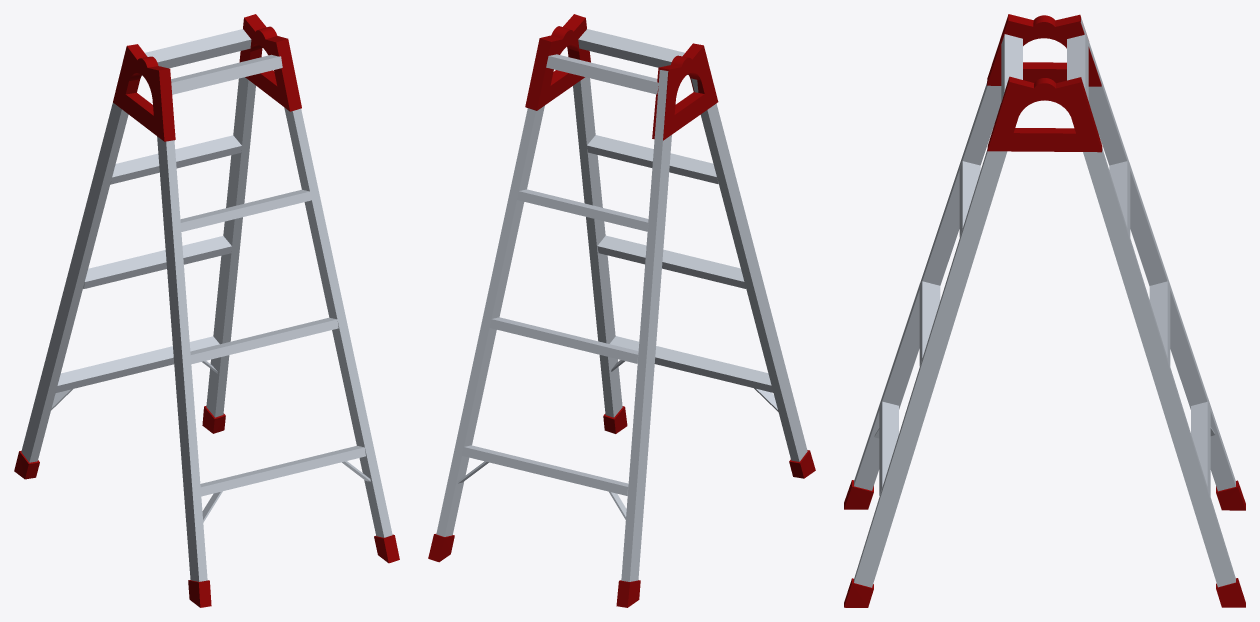
The model's file is Ladder.obj.
3 renders of one model, left to right at view 1: azimuth 30°, elevation 25°; view 2: azimuth 150°, elevation 25°; view 3: azimuth 270°, elevation 25°, orthographic. The views are drawn at different scales.
Parts seen in each view (by area): view 1: Mesh2 leg2 Group1 ladder_1_1 Componente_91_1 Model, Mesh1 leg1 Group1 ladder_1_1 Componente_91_1 Model, Mesh9 leg3 Group2 ladder_1_1 Componente_91_1 Model, Mesh10 leg4 Group2 ladder_1_1 Componente_91_1 Model, Mesh18 Group4 ladder_1_1 Componente_91_1 Model, Mesh17 Group3 ladder_1_1 Componente_91_1 Model, Mesh13 Group2 ladder_1_1 Componente_91_1 Model, Mesh12 Group2 ladder_1_1 Componente_91_1 Model, Mesh14 Group2 ladder_1_1 Componente_91_1 Model, Mesh4 Group1 ladder_1_1 Componente_91_1 Model, Mesh11 Group2 ladder_1_1 Componente_91_1 Model, Mesh5 Group1 ladder_1_1 Componente_91_1 Model (+2 smaller); view 2: Mesh9 leg3 Group2 ladder_1_1 Componente_91_1 Model, Mesh10 leg4 Group2 ladder_1_1 Componente_91_1 Model, Mesh2 leg2 Group1 ladder_1_1 Componente_91_1 Model, Mesh1 leg1 Group1 ladder_1_1 Componente_91_1 Model, Mesh18 Group4 ladder_1_1 Componente_91_1 Model, Mesh17 Group3 ladder_1_1 Componente_91_1 Model, Mesh5 Group1 ladder_1_1 Componente_91_1 Model, Mesh4 Group1 ladder_1_1 Componente_91_1 Model, Mesh6 Group1 ladder_1_1 Componente_91_1 Model, Mesh12 Group2 ladder_1_1 Componente_91_1 Model, Mesh3 Group1 ladder_1_1 Componente_91_1 Model, Mesh13 Group2 ladder_1_1 Componente_91_1 Model (+2 smaller); view 3: Mesh1 leg1 Group1 ladder_1_1 Componente_91_1 Model, Mesh10 leg4 Group2 ladder_1_1 Componente_91_1 Model, Mesh9 leg3 Group2 ladder_1_1 Componente_91_1 Model, Mesh2 leg2 Group1 ladder_1_1 Componente_91_1 Model, Mesh17 Group3 ladder_1_1 Componente_91_1 Model, Mesh18 Group4 ladder_1_1 Componente_91_1 Model, Mesh4 Group1 ladder_1_1 Componente_91_1 Model, Mesh12 Group2 ladder_1_1 Componente_91_1 Model, Mesh5 Group1 ladder_1_1 Componente_91_1 Model, Mesh13 Group2 ladder_1_1 Componente_91_1 Model, Mesh3 Group1 ladder_1_1 Componente_91_1 Model, Mesh11 Group2 ladder_1_1 Componente_91_1 Model (+2 smaller).
Part boxes in pixels (box(x1,y1,x2,y2)): Mesh2 leg2 Group1 ladder_1_1 Componente_91_1 Model: box(157, 136, 211, 607); Mesh1 leg1 Group1 ladder_1_1 Componente_91_1 Model: box(284, 107, 399, 563); Mesh9 leg3 Group2 ladder_1_1 Componente_91_1 Model: box(14, 103, 128, 479); Mesh10 leg4 Group2 ladder_1_1 Componente_91_1 Model: box(202, 77, 255, 433); Mesh18 Group4 ladder_1_1 Componente_91_1 Model: box(113, 44, 175, 141); Mesh17 Group3 ladder_1_1 Componente_91_1 Model: box(239, 14, 301, 111); Mesh13 Group2 ladder_1_1 Componente_91_1 Model: box(83, 236, 231, 288); Mesh12 Group2 ladder_1_1 Componente_91_1 Model: box(55, 336, 219, 392); Mesh14 Group2 ladder_1_1 Componente_91_1 Model: box(110, 135, 241, 184); Mesh4 Group1 ladder_1_1 Componente_91_1 Model: box(200, 446, 365, 496); Mesh11 Group2 ladder_1_1 Componente_91_1 Model: box(145, 29, 251, 68); Mesh5 Group1 ladder_1_1 Componente_91_1 Model: box(190, 317, 338, 364); Mesh9 leg3 Group2 ladder_1_1 Componente_91_1 Model: box(616, 69, 671, 607); Mesh10 leg4 Group2 ladder_1_1 Componente_91_1 Model: box(428, 105, 544, 562); Mesh2 leg2 Group1 ladder_1_1 Componente_91_1 Model: box(691, 78, 815, 478); Mesh1 leg1 Group1 ladder_1_1 Componente_91_1 Model: box(573, 77, 627, 433); Mesh18 Group4 ladder_1_1 Componente_91_1 Model: box(652, 43, 718, 140); Mesh17 Group3 ladder_1_1 Componente_91_1 Model: box(525, 14, 590, 110); Mesh5 Group1 ladder_1_1 Componente_91_1 Model: box(597, 235, 746, 288); Mesh4 Group1 ladder_1_1 Componente_91_1 Model: box(610, 336, 773, 392); Mesh6 Group1 ladder_1_1 Componente_91_1 Model: box(587, 135, 718, 184); Mesh12 Group2 ladder_1_1 Componente_91_1 Model: box(461, 445, 628, 495); Mesh3 Group1 ladder_1_1 Componente_91_1 Model: box(578, 29, 688, 74); Mesh13 Group2 ladder_1_1 Componente_91_1 Model: box(489, 317, 638, 363); Mesh1 leg1 Group1 ladder_1_1 Componente_91_1 Model: box(844, 150, 1007, 607); Mesh10 leg4 Group2 ladder_1_1 Componente_91_1 Model: box(1083, 148, 1245, 607); Mesh9 leg3 Group2 ladder_1_1 Componente_91_1 Model: box(1080, 16, 1245, 510); Mesh2 leg2 Group1 ladder_1_1 Componente_91_1 Model: box(844, 83, 1001, 509); Mesh17 Group3 ladder_1_1 Componente_91_1 Model: box(987, 76, 1102, 152); Mesh18 Group4 ladder_1_1 Componente_91_1 Model: box(987, 14, 1101, 86); Mesh4 Group1 ladder_1_1 Componente_91_1 Model: box(879, 401, 898, 495); Mesh12 Group2 ladder_1_1 Componente_91_1 Model: box(1191, 401, 1210, 496); Mesh5 Group1 ladder_1_1 Componente_91_1 Model: box(919, 281, 940, 366); Mesh13 Group2 ladder_1_1 Componente_91_1 Model: box(1149, 281, 1170, 365); Mesh3 Group1 ladder_1_1 Componente_91_1 Model: box(1001, 34, 1022, 101); Mesh11 Group2 ladder_1_1 Componente_91_1 Model: box(1067, 34, 1088, 100).
Size of the model in its own units: 1.22 by 2.77 by 1.98.
